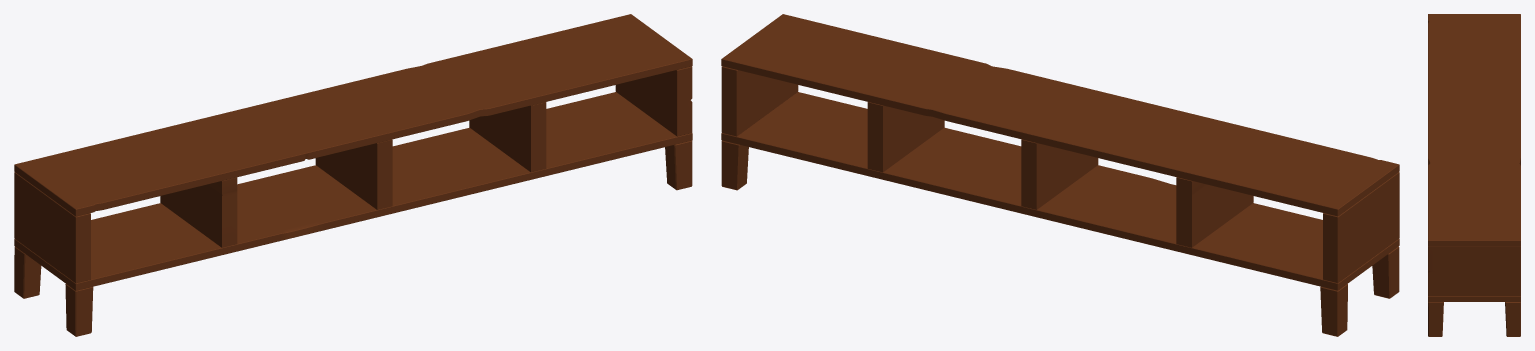
The model's file is sideboard.gltf.
3 renders of one model, left to right at view 1: azimuth 30°, elevation 25°; view 2: azimuth 150°, elevation 25°; view 3: azimuth 270°, elevation 25°, orthographic. The views are drawn at different scales.
Parts seen in each view (by area): view 1: sideboard; view 2: sideboard; view 3: sideboard.
Part boxes in pixels (x1,y1,x2,y2): sideboard: [14, 14, 692, 336]; sideboard: [721, 14, 1399, 336]; sideboard: [1428, 14, 1520, 336].
Bounding box in the file's own units: 4.46 × 0.884 × 0.7715.
